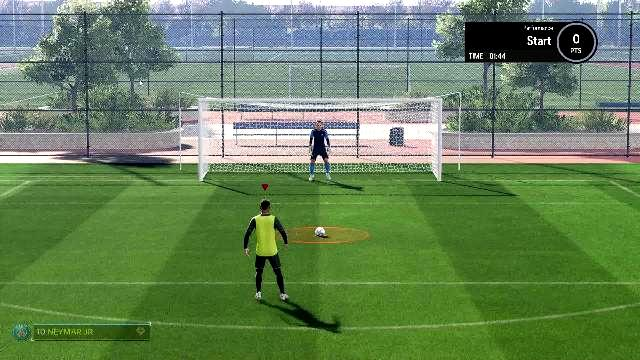bottom-left: (202, 144, 278, 182)
bottom-right: (358, 144, 438, 182)
center-down: (281, 144, 359, 180)
center-up: (280, 102, 360, 144)
circle: (279, 227, 369, 245)
football: (314, 229, 326, 238)
goalkeeper: (306, 118, 338, 180)
player: (244, 197, 290, 304)
top-left: (202, 102, 278, 144)
top-right: (359, 103, 437, 143)
